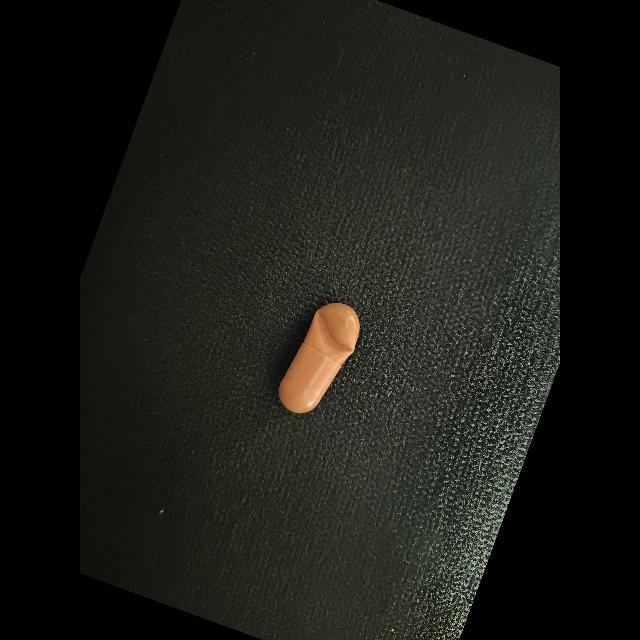Defective Capsule: (316, 308, 355, 354)
